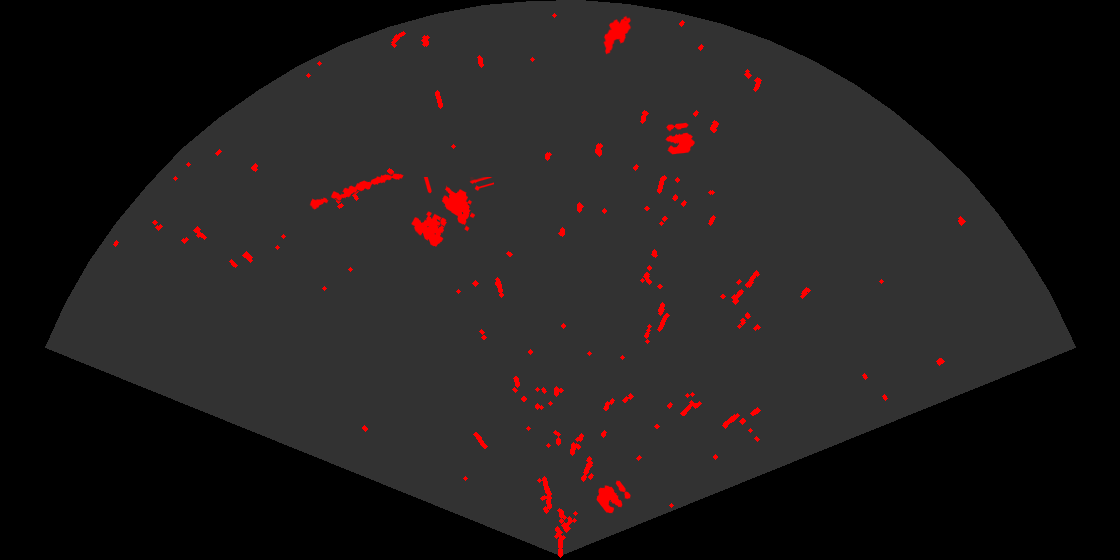AUV: (602, 14, 633, 56)
ball: (595, 479, 632, 515), (664, 121, 696, 156)
cage: (410, 177, 494, 248)
chain: (308, 172, 405, 211)
